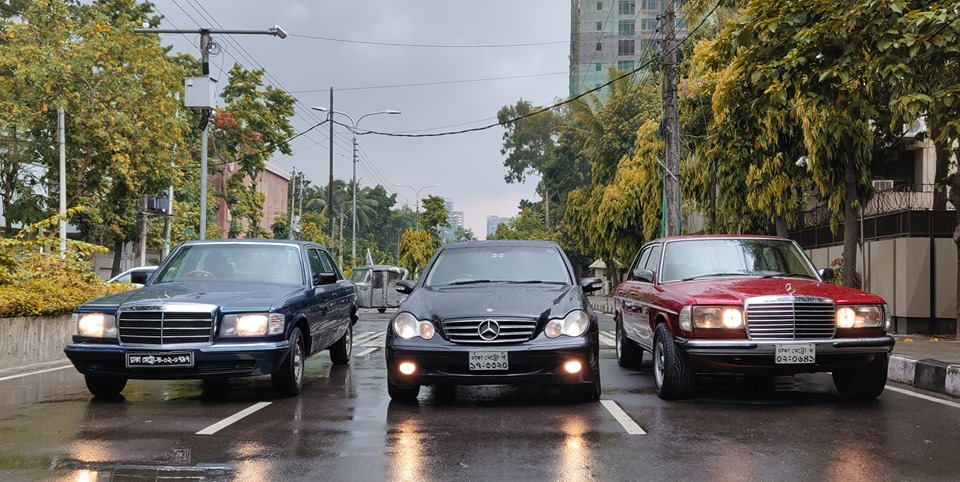registration_plate: (125, 353, 194, 366), (775, 344, 816, 364), (468, 351, 509, 370)
